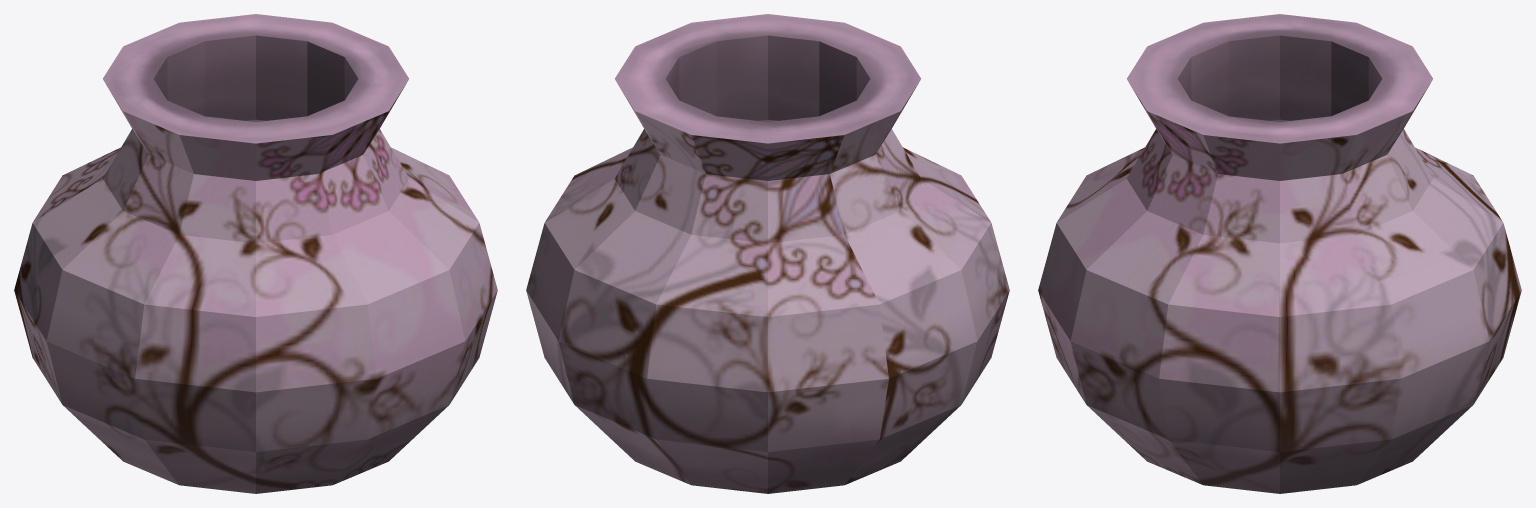
The model's file is vaso3.fbx.
The picture shows the model from 3 angles, left to right: view 1: azimuth 30°, elevation 25°; view 2: azimuth 150°, elevation 25°; view 3: azimuth 270°, elevation 25°; orthographic projection.
Parts seen in each view (by area): view 1: Cylinder.008; view 2: Cylinder.008; view 3: Cylinder.008.
Boxes of the visible parts, left/top/right/bottom form: Cylinder.008: left=14, top=14, right=497, bottom=493; Cylinder.008: left=526, top=14, right=1009, bottom=493; Cylinder.008: left=1038, top=14, right=1521, bottom=493.
Bounding box in the file's own units: 158 × 126 × 158.
